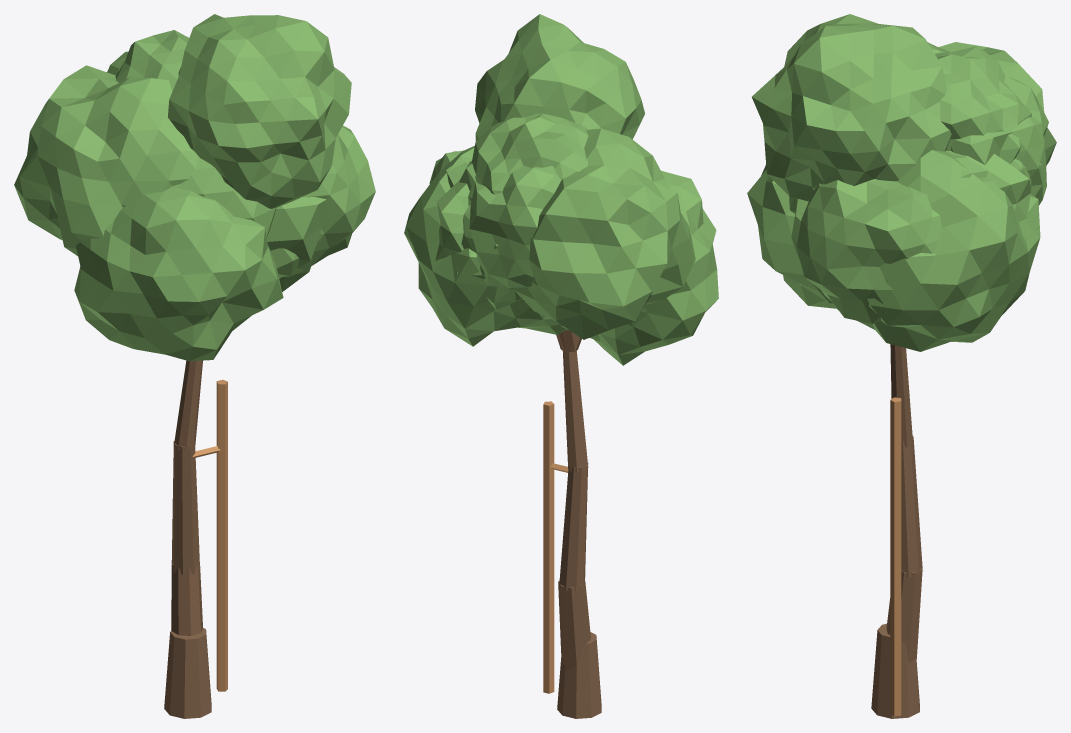
File: tree-small.glb
The picture shows the model from 3 angles, left to right: view 1: azimuth 30°, elevation 25°; view 2: azimuth 150°, elevation 25°; view 3: azimuth 270°, elevation 25°; orthographic projection. The views are drawn at different scales.
Visible parts, largest first — view 1: tree-small; view 2: tree-small; view 3: tree-small.
Part boxes in pixels (bbox=[...]): tree-small: bbox=[14, 14, 375, 718]; tree-small: bbox=[404, 14, 718, 718]; tree-small: bbox=[747, 14, 1056, 718].
Bounding box in the file's own units: 1.38 × 3.17 × 1.25.
